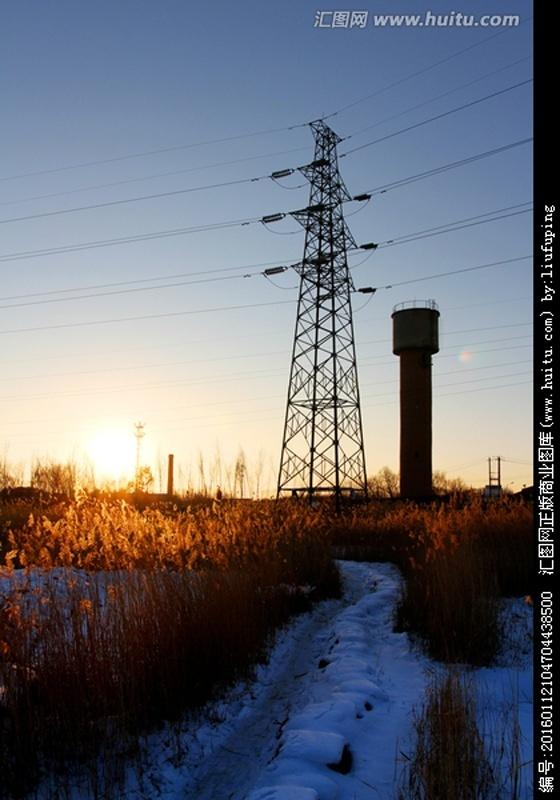power_tower: (277, 107, 372, 487)
